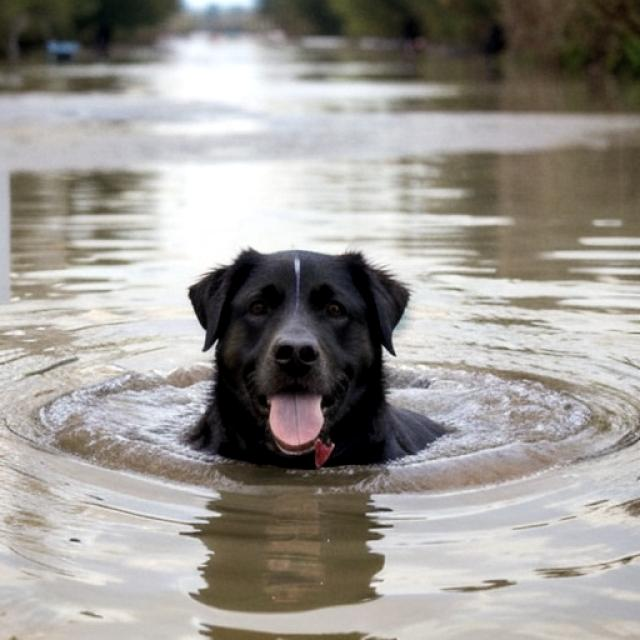dog: (177, 235, 457, 479)
